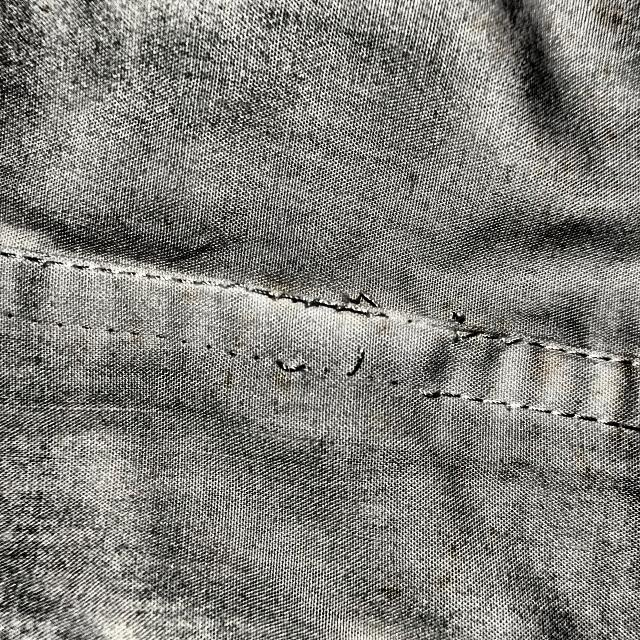Stitch: (260, 272, 554, 444)
